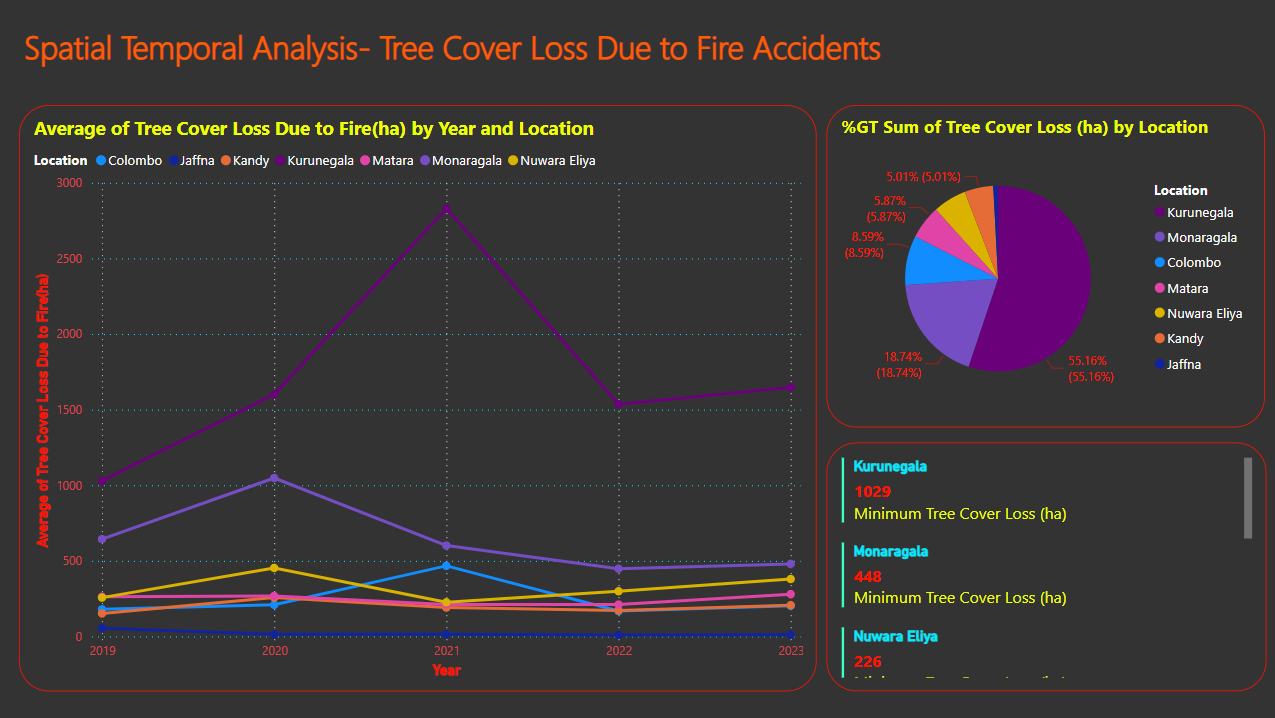

Layout of this report page (visuals, bound fields, positions):
{"tool":"powerbi","page":{"name":"Tree Cover Loss","canvas":[1280,720],"ordinal":4},"visuals":[{"type":"textbox","box":[20,20,890,71.2],"z":0},{"type":"lineChart","title":"Average of Tree Cover Loss Due to Fire(ha) by Year and Location","fields":{"Category":["cleaned_spatial.Year"],"Y":["Avg(cleaned_spatial.Tree Cover Loss (ha))"],"Series":["cleaned_spatial.Location"]},"box":[20,105,797.5,586.2],"z":1000},{"type":"pieChart","fields":{"Y":["Sum(cleaned_spatial.Tree Cover Loss (ha))"],"Category":["cleaned_spatial.Location"]},"box":[827.5,105,438.8,322.5],"z":2000},{"type":"multiRowCard","title":"Min Tree Cover Loss Due to Fire per Location (ha)","fields":{"Values":["Min(cleaned_spatial.Tree Cover Loss (ha))","cleaned_spatial.Location"]},"box":[827.5,442.5,440,248.8],"z":3000}]}

Visuals, with their boxes in screenshot pixels (x1, y1, x2, y2), scaled from the page's 1280x720 canvas onto the 1275x718 screenshot:
textbox: (left=20, top=20, right=906, bottom=91)
"Average of Tree Cover Loss Due to Fire(ha) by Year and Location" lineChart: (left=20, top=105, right=814, bottom=689)
pieChart - Sum(cleaned_spatial.Tree Cover Loss (ha)) x cleaned_spatial.Location: (left=824, top=105, right=1261, bottom=426)
"Min Tree Cover Loss Due to Fire per Location (ha)" multiRowCard: (left=824, top=441, right=1263, bottom=689)
